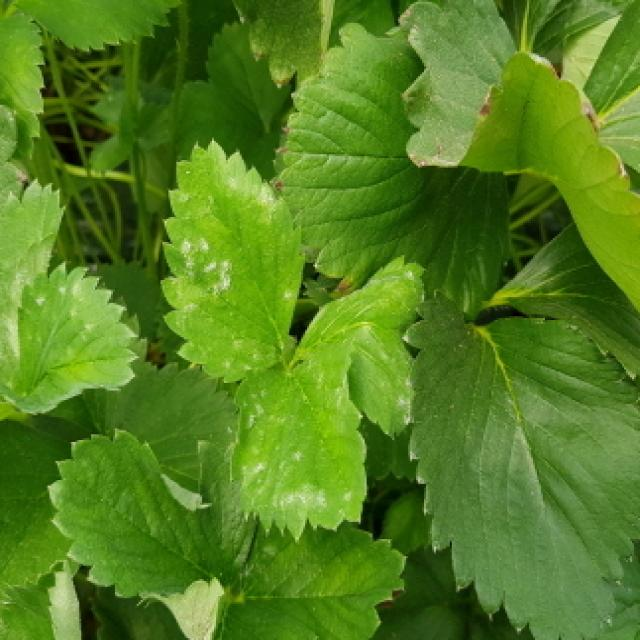Powdery Mildew Leaf: (159, 138, 308, 384), (48, 427, 232, 597), (226, 338, 367, 546), (294, 254, 427, 438), (11, 259, 142, 418), (0, 179, 69, 398), (156, 578, 319, 640), (0, 561, 80, 640)
